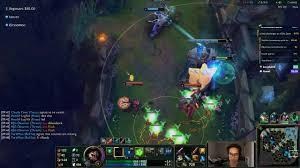bar: (121, 81, 146, 87), (178, 82, 201, 88), (143, 7, 168, 12), (210, 56, 235, 61)
